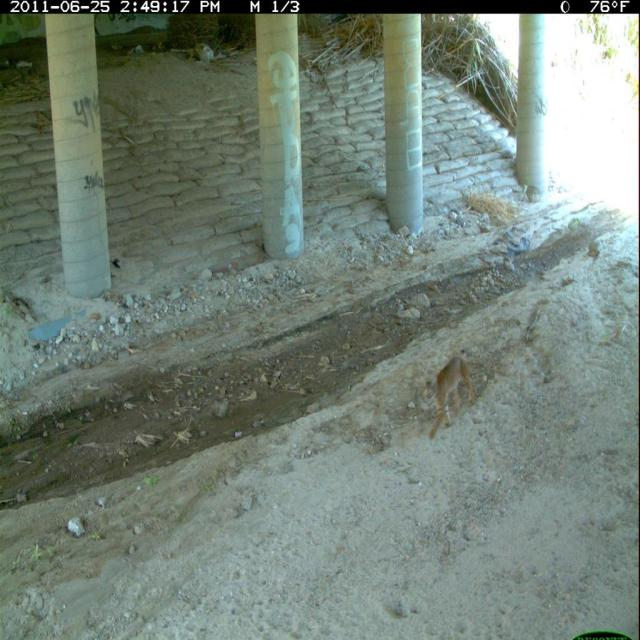bobcat: (419, 351, 478, 447)
